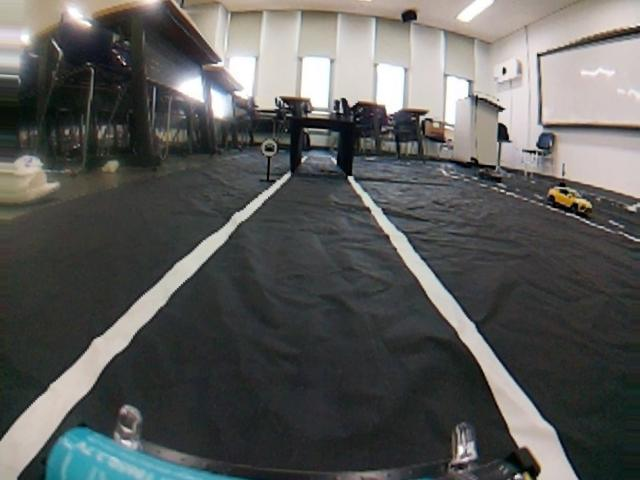sign_tunnel: (258, 140, 280, 161)
straight: (3, 199, 589, 479)
